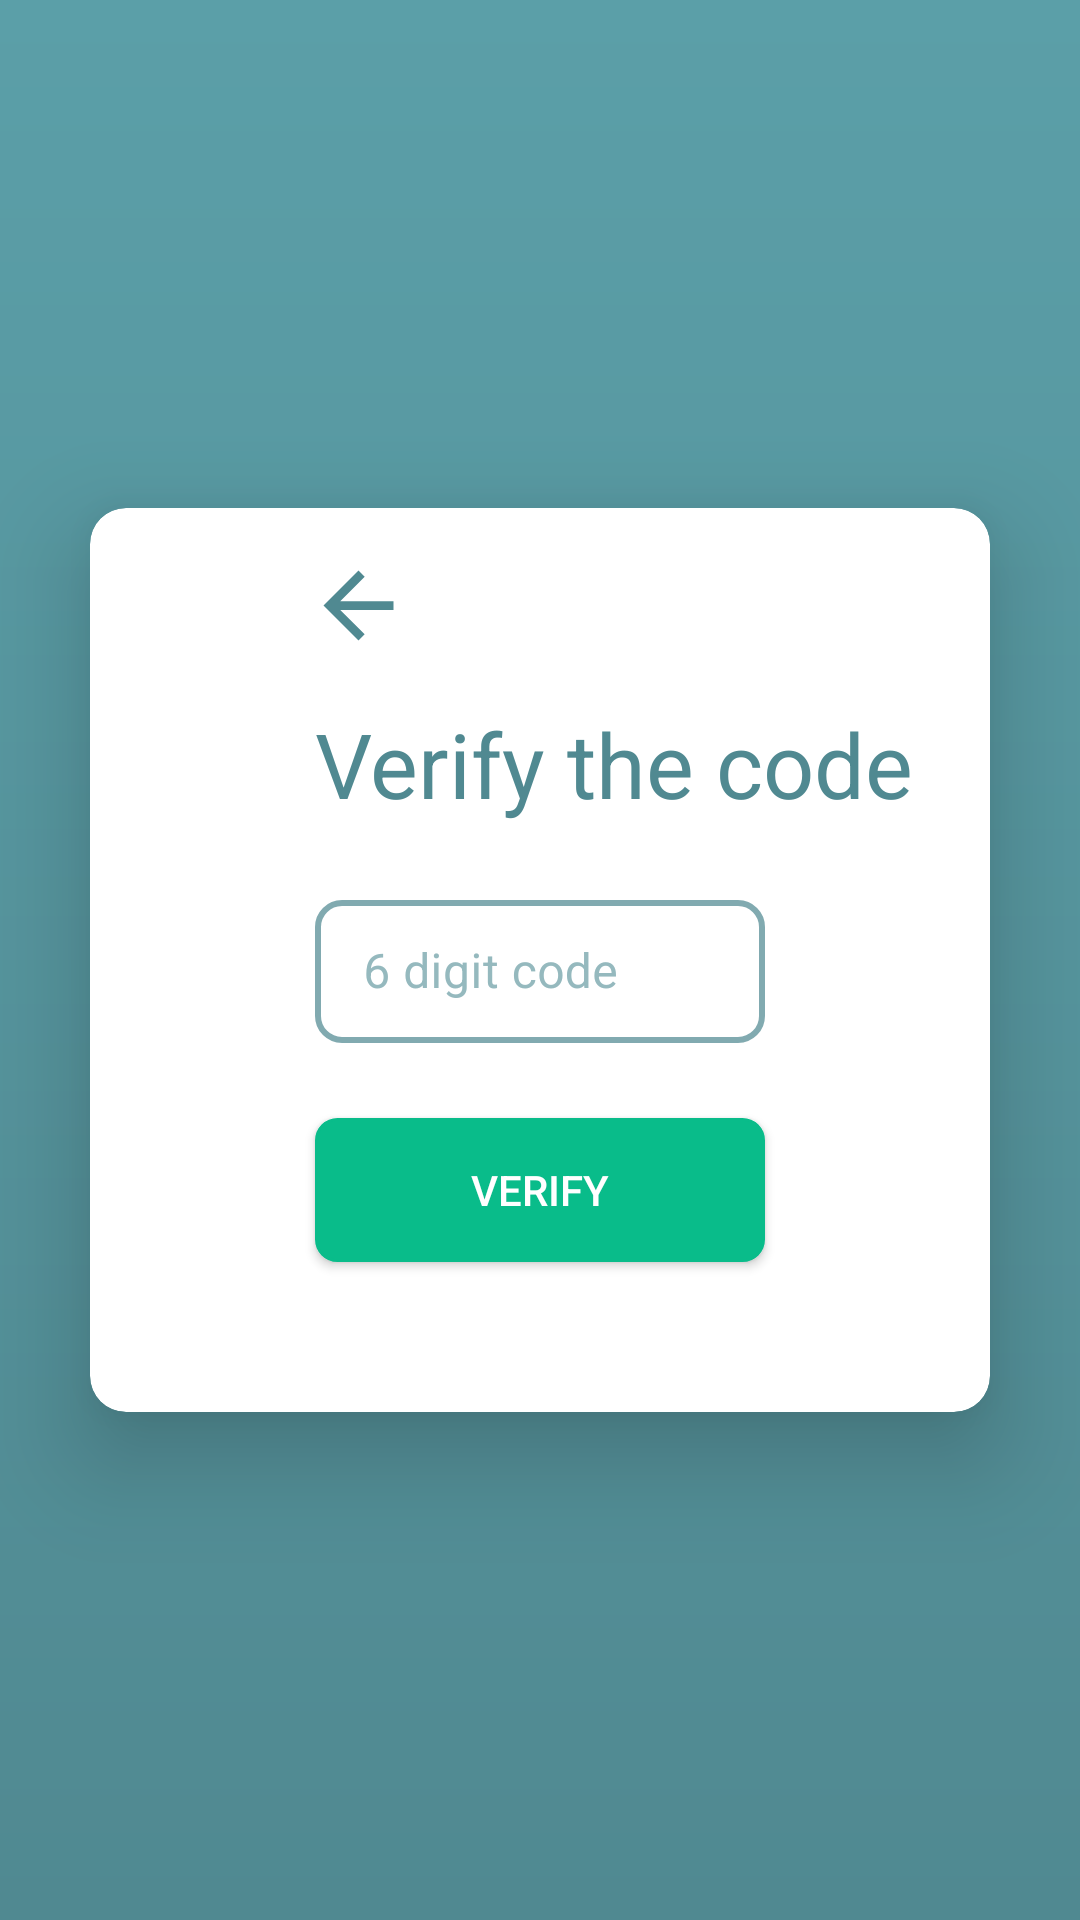

Icon bounding boxes for this 1080x1920 phone screenshot, format (x1, y1, x2, y2):
arrow back: (323, 570, 394, 641)
